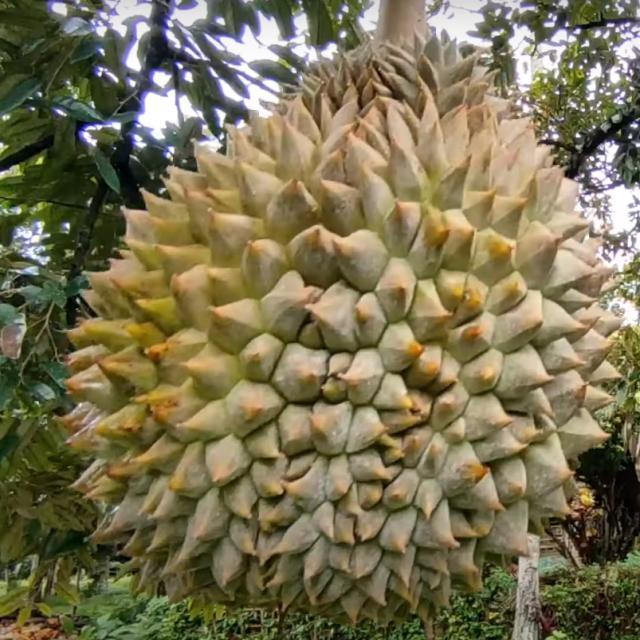immature: (58, 26, 625, 604)
